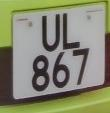6: (47, 50, 73, 92)
7: (70, 46, 91, 89)
8: (26, 49, 54, 97)
L: (59, 8, 82, 51)
U: (38, 10, 65, 53)
